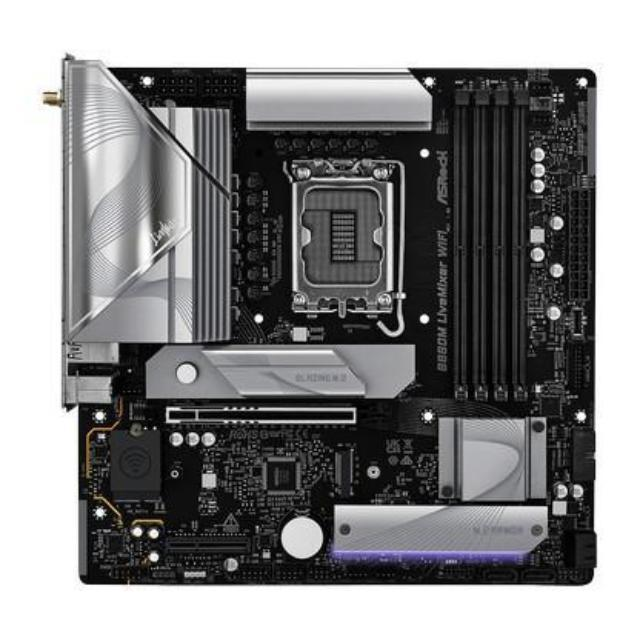Mainboard: (42, 40, 602, 608)
